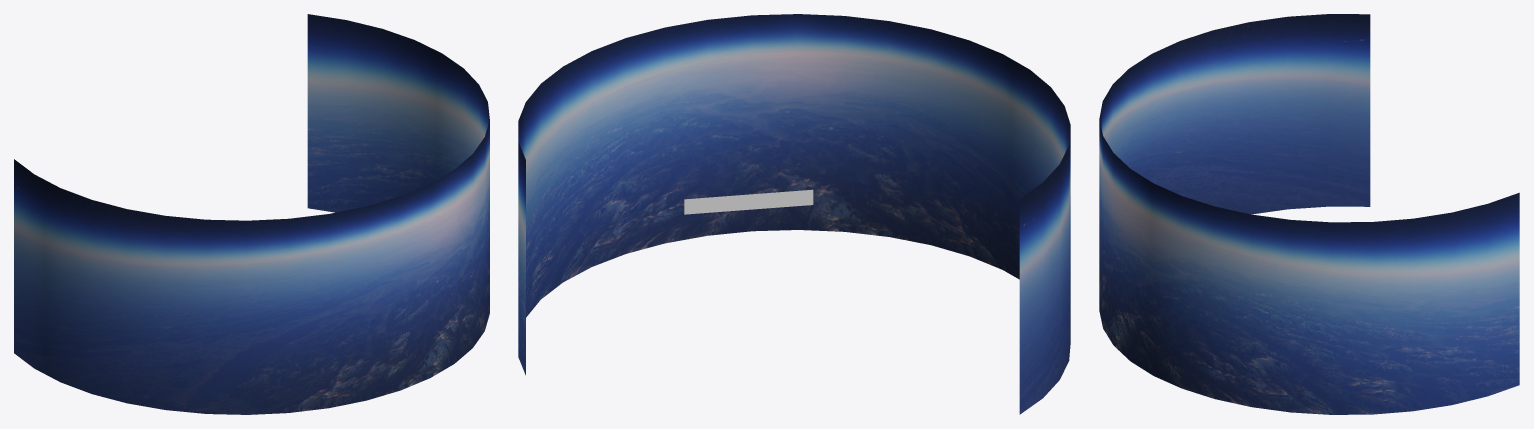
Rendered from dome.obj.
The picture shows the model from 3 angles, left to right: view 1: azimuth 30°, elevation 25°; view 2: azimuth 150°, elevation 25°; view 3: azimuth 270°, elevation 25°; orthographic projection. The views are drawn at different scales.
Visible parts, largest first — view 1: Plane026; view 2: Plane026; view 3: Plane026.
Boxes of the visible parts, left/top/right/bottom form: Plane026: left=14, top=14, right=489, bottom=414; Plane026: left=518, top=14, right=1070, bottom=414; Plane026: left=1099, top=14, right=1519, bottom=414.
Size of the model in its own units: 53.73 by 23.17 by 45.78.
Materials: 2 (2 with a texture image).
